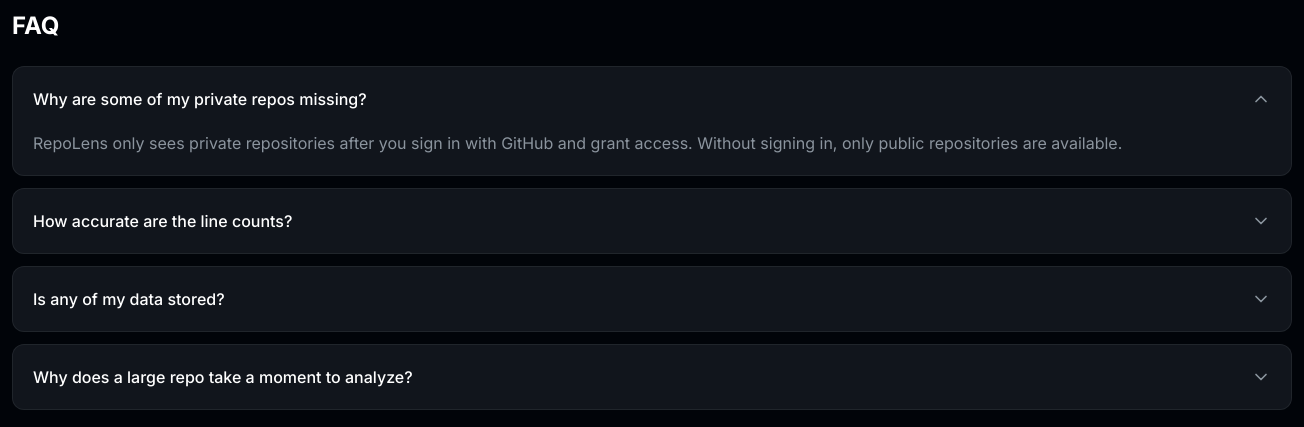
FaqAccordion › expands a collapsed item when clicked
This screenshot has width=1304, height=427.
Click the button "Is any of my data stored?". click: (129, 299)
box: [13,267,1291,331]
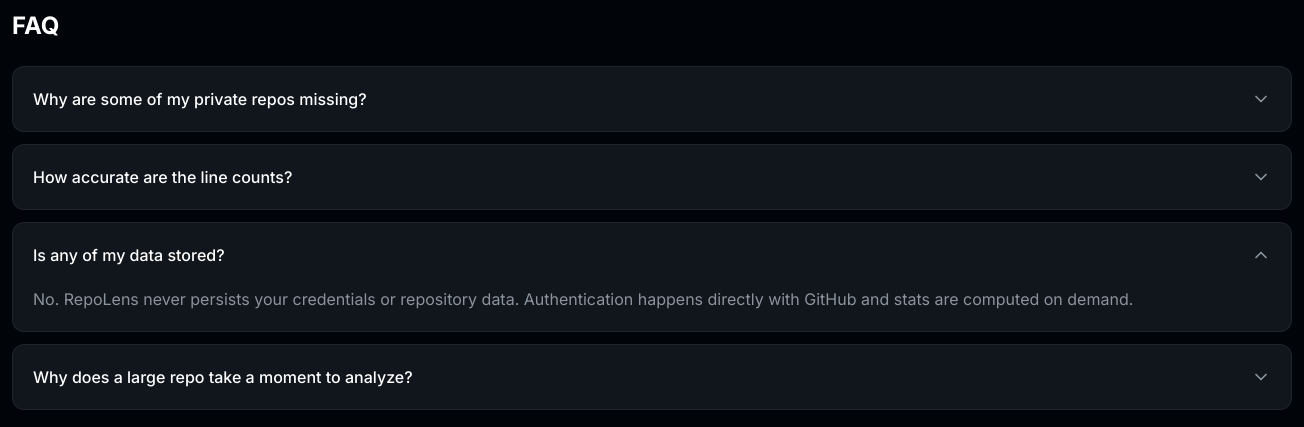
Expected: the button "Is any of my data stored?" is expanded, [13,223,1291,287]
Expected: the text "never persists your credentials" is shown, [33,289,1133,309]
